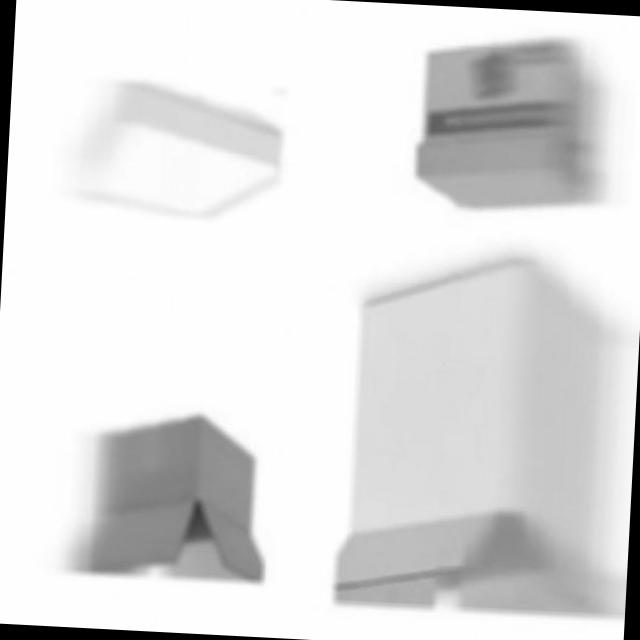box: (345, 253, 617, 616), (412, 29, 600, 216), (94, 411, 255, 580), (83, 82, 280, 220)
